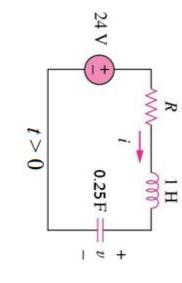inductor: (141, 165, 159, 214)
